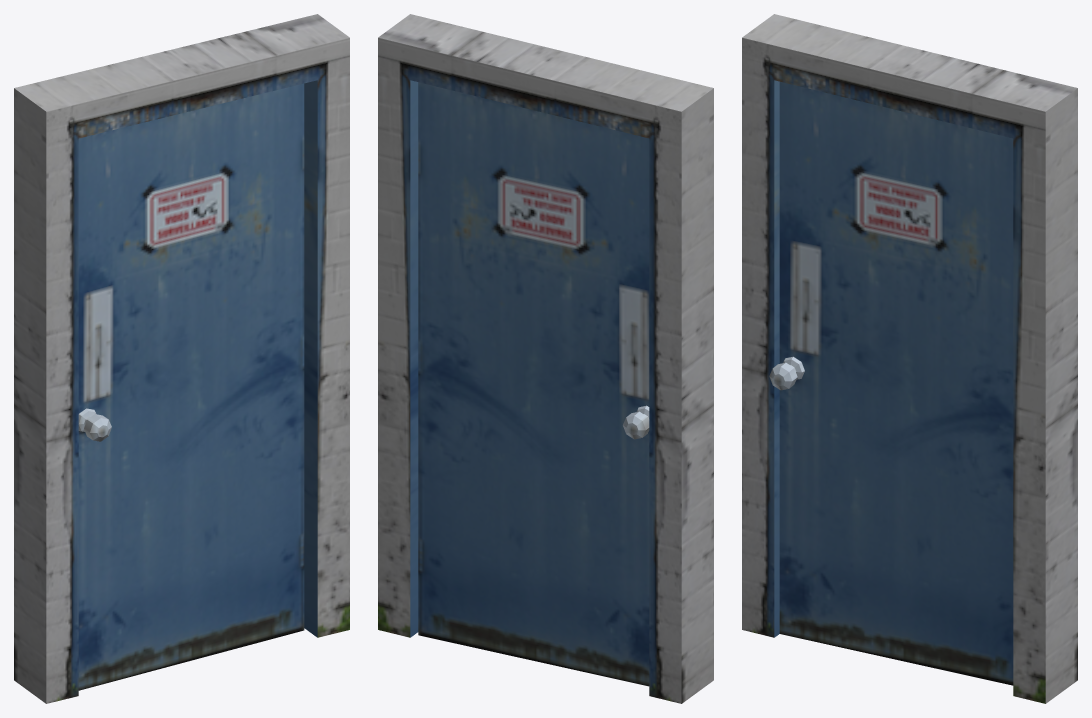
File: vrata.glb
3 views of the same model, side by side, from view 1: azimuth 30°, elevation 25°; view 2: azimuth 150°, elevation 25°; view 3: azimuth 330°, elevation 25° (orthographic).
Parts seen in each view (by area): view 1: Metal Door_005, Metal Doorframe_002.001, Circle.003; view 2: Metal Door_005, Metal Doorframe_002.001, Circle.003; view 3: Metal Door_005, Metal Doorframe_002.001, Circle.003.
Boxes of the visible parts, left/top/right/bottom form: Metal Door_005: left=78, top=83, right=304, bottom=690; Metal Doorframe_002.001: left=14, top=14, right=349, bottom=703; Circle.003: left=78, top=408, right=111, bottom=441; Metal Door_005: left=418, top=82, right=649, bottom=686; Metal Doorframe_002.001: left=378, top=14, right=713, bottom=703; Circle.003: left=623, top=405, right=649, bottom=439; Metal Door_005: left=779, top=81, right=1013, bottom=685; Metal Doorframe_002.001: left=742, top=14, right=1077, bottom=703; Circle.003: left=769, top=356, right=804, bottom=390.
Size of the model in its own units: 5.45 by 10.15 by 1.49.
1 material, 1 textured.
